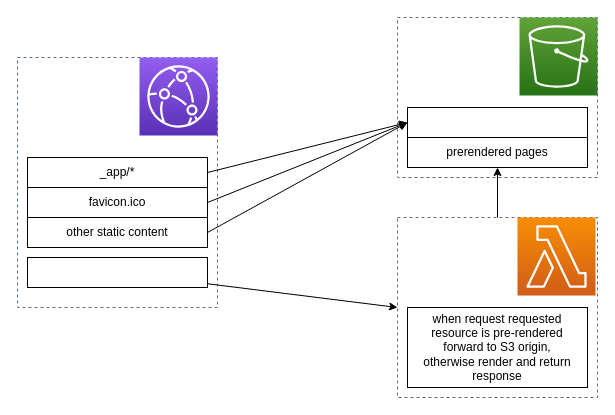
The diagram is 615 pixels wide and 415 high, and some of its shapes have lost their labels. Each missing label, with the box of its shape:
Default (*): (26, 256, 208, 288)
static content: (406, 106, 588, 138)
